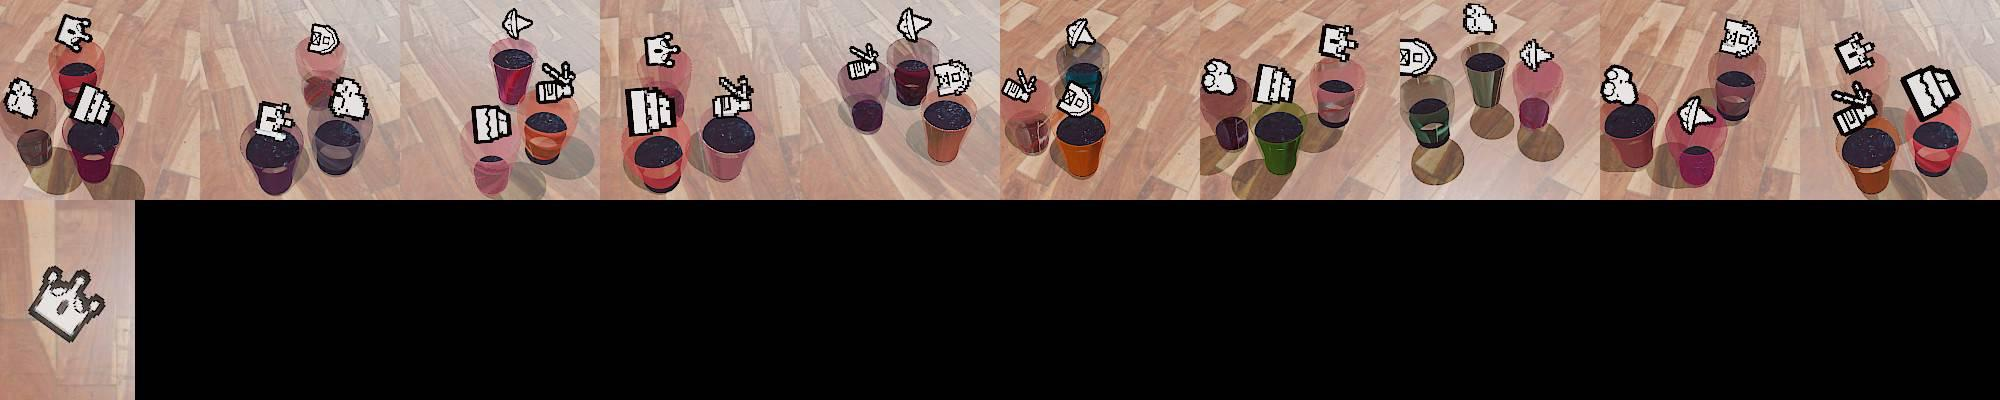icon: (27, 264, 107, 344), (1898, 65, 1959, 120), (1830, 80, 1879, 138), (625, 84, 677, 136), (327, 75, 371, 121), (70, 82, 116, 126), (1717, 17, 1761, 60), (712, 73, 755, 117), (1253, 62, 1296, 106), (1833, 31, 1876, 74), (1676, 93, 1718, 134), (469, 103, 513, 143), (54, 13, 94, 54), (1601, 64, 1639, 107), (538, 60, 578, 101), (931, 59, 972, 97), (255, 101, 295, 139), (1319, 22, 1357, 61), (4, 78, 40, 120), (1055, 79, 1093, 117), (1399, 37, 1435, 78), (644, 31, 681, 69), (1001, 66, 1038, 103), (1518, 37, 1555, 73), (1202, 59, 1237, 96), (847, 42, 881, 79), (897, 6, 932, 41), (1462, 3, 1496, 36), (307, 22, 339, 56), (501, 8, 533, 41), (1066, 17, 1094, 48)
